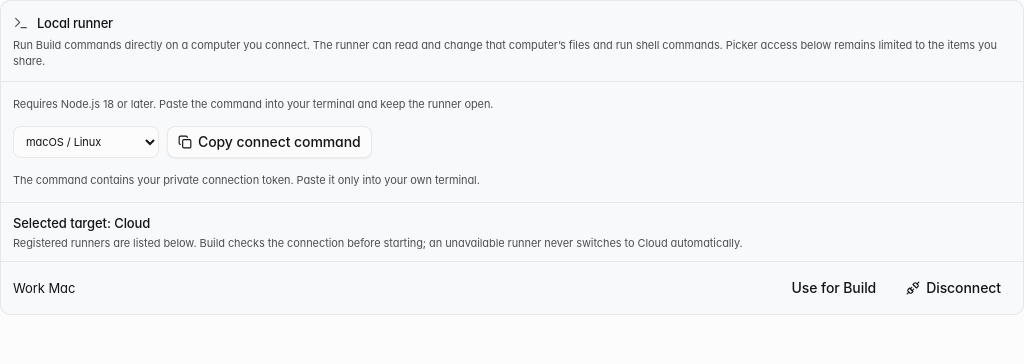
Test: does not claim a rejected disconnect succeeded
Click the button with aria-label "Disconnect Work Mac".
click(954, 288)  # box [896,272,1011,304]
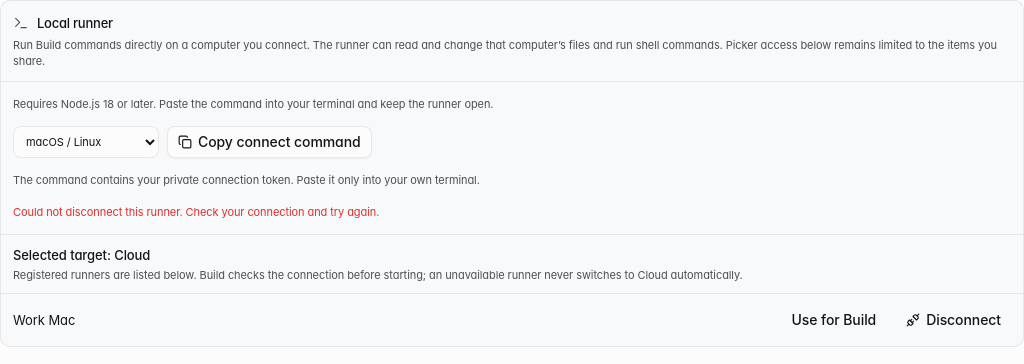
Result: the message shows "Could not disconnect" at [13,205,379,219]
